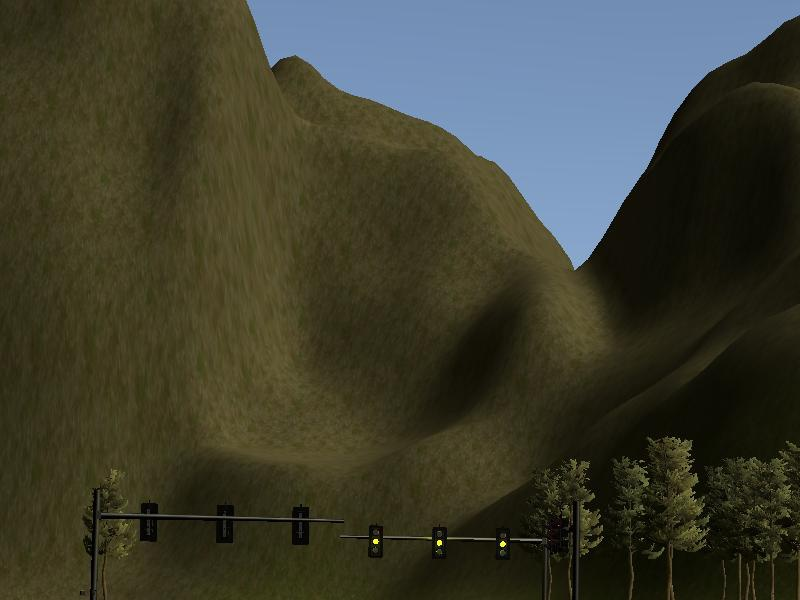Yellow: (367, 521, 385, 560), (430, 524, 448, 560), (495, 526, 510, 561)
